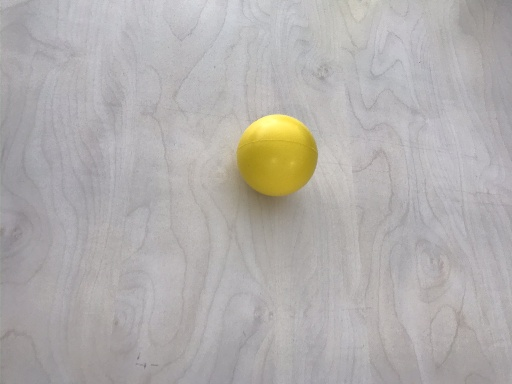Palla: (237, 114, 318, 198)
